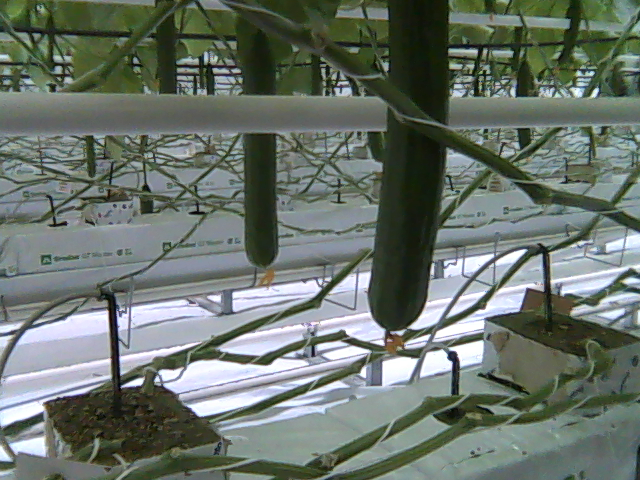concombre: (365, 1, 452, 362)
